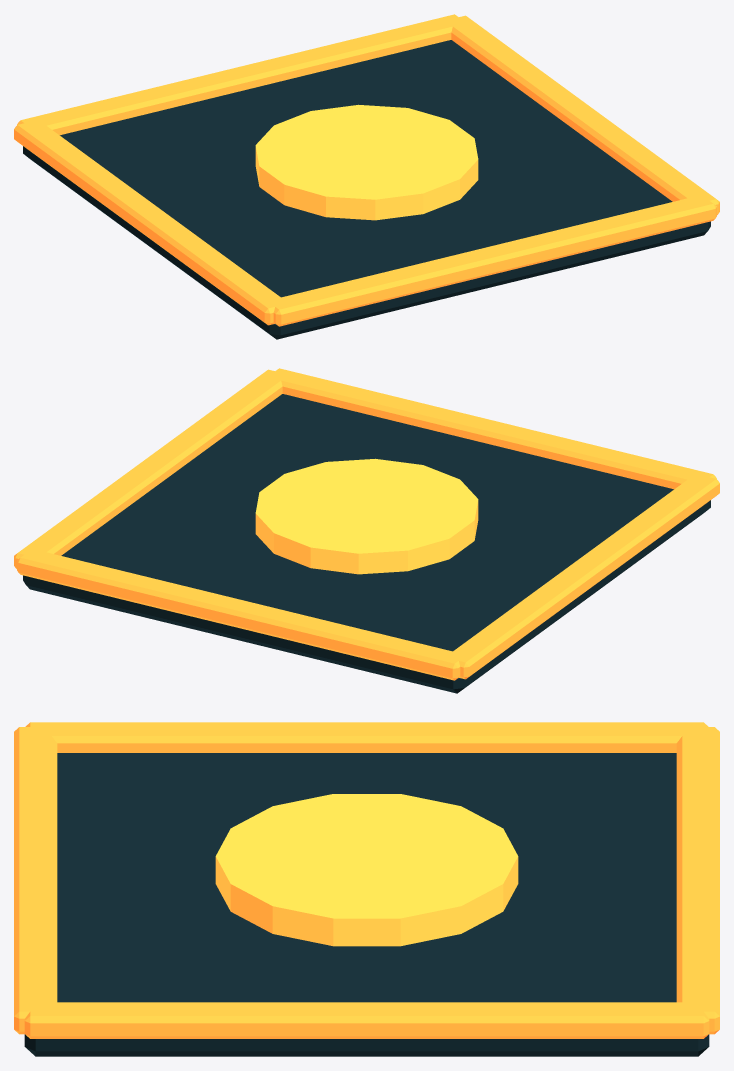
Rendered from pad_orange.glb.
3 renders of one model, top to bottom at view 1: azimuth 30°, elevation 25°; view 2: azimuth 150°, elevation 25°; view 3: azimuth 270°, elevation 25°, orthographic. The views are drawn at different scales.
Parts seen in each view (by area): view 1: pad_orange; view 2: pad_orange; view 3: pad_orange.
Part boxes in pixels (x1,y1,x2,y2): pad_orange: (14,14,719,339); pad_orange: (14,368,719,693); pad_orange: (14,722,719,1056).
Bounding box in the file's own units: 1.96 × 0.185 × 1.96.
